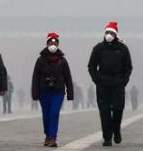person: (87, 19, 132, 147), (31, 29, 73, 149), (2, 75, 15, 115), (85, 82, 96, 107), (129, 84, 139, 110)
